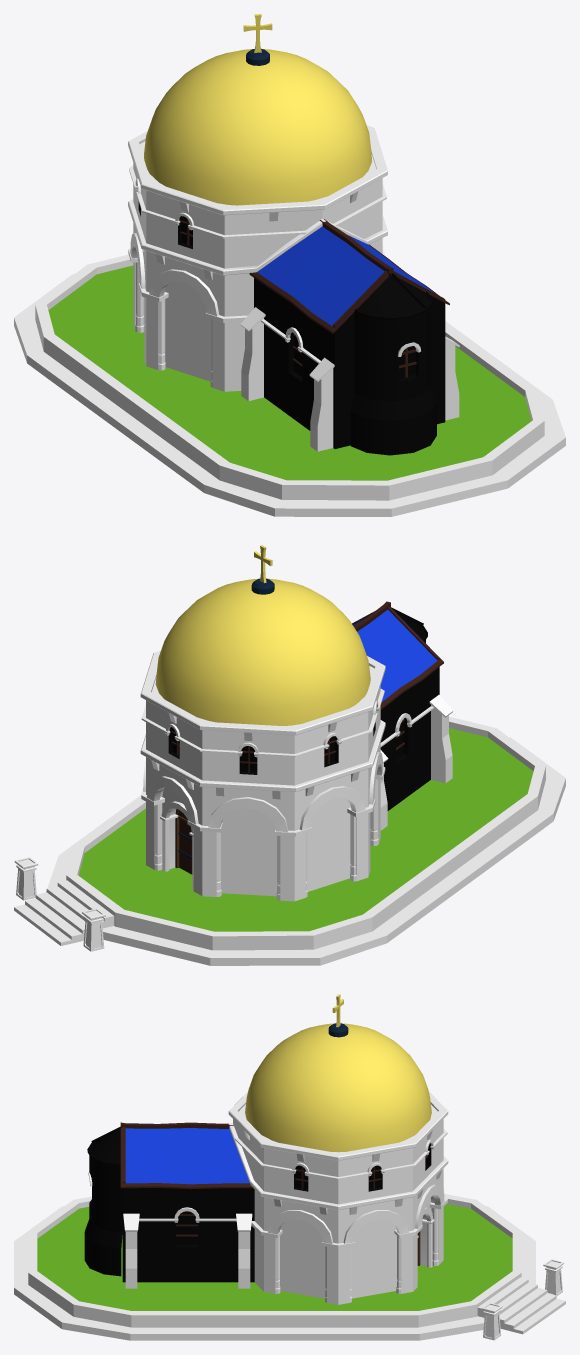
Rendered from church_b.FBX.
3 views of the same model, one above another, from view 1: azimuth 30°, elevation 25°; view 2: azimuth 150°, elevation 25°; view 3: azimuth 270°, elevation 25° (orthographic). The views are drawn at different scales.
Parts seen in each view (by area): view 1: church_b; view 2: church_b; view 3: church_b.
Boxes of the visible parts, x1,y1,x2,y2 form: church_b: [14, 14, 565, 516]; church_b: [14, 545, 565, 965]; church_b: [14, 994, 565, 1340].
Bounding box in the file's own units: 1980 × 1844 × 3315.
